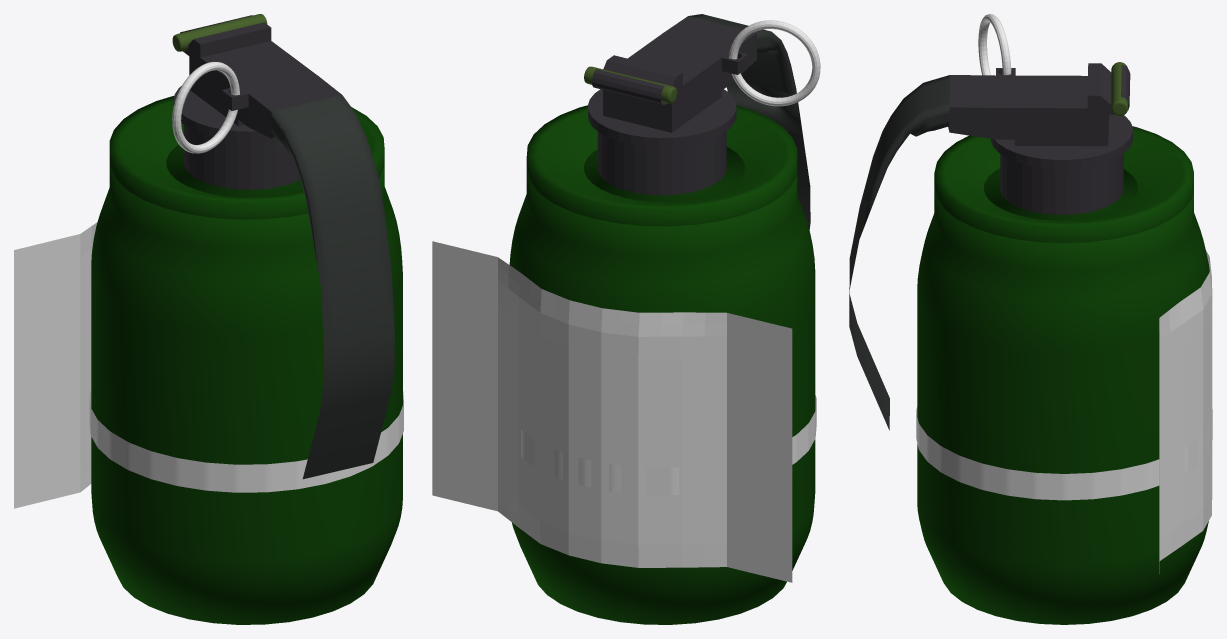
The model's file is Smoke.fbx.
3 views of the same model, side by side, from view 1: azimuth 30°, elevation 25°; view 2: azimuth 150°, elevation 25°; view 3: azimuth 270°, elevation 25° (orthographic). The views are drawn at different scales.
Visible parts, largest first — view 1: 柱体.001, 球体.002, 平面, 球体.001, 柱体.002, 环体, 柱体; view 2: 平面, 柱体.001, 球体.001, 球体.002, 柱体.002, 环体, 柱体; view 3: 柱体.001, 球体.001, 平面, 柱体.002, 球体.002, 环体, 柱体.
Boxes of the visible parts, x1,y1,x2,y2 form: 柱体.001: (91, 95, 402, 624); 球体.002: (271, 95, 394, 479); 平面: (14, 222, 97, 508); 球体.001: (173, 15, 341, 189); 柱体.002: (89, 390, 403, 492); 环体: (172, 62, 239, 153); 柱体: (172, 14, 267, 51); 平面: (432, 241, 792, 582); 柱体.001: (509, 105, 815, 624); 球体.001: (588, 16, 756, 195); 球体.002: (689, 14, 810, 229); 柱体.002: (521, 395, 816, 494); 环体: (729, 20, 820, 106); 柱体: (584, 66, 677, 103); 柱体.001: (917, 126, 1209, 624); 球体.001: (949, 63, 1132, 214); 平面: (1159, 251, 1212, 573); 柱体.002: (916, 407, 1212, 500); 球体.002: (849, 75, 949, 430); 环体: (978, 14, 1011, 75); 柱体: (1111, 62, 1128, 116).
Bounding box in the file's own units: 246 × 354 × 225.
